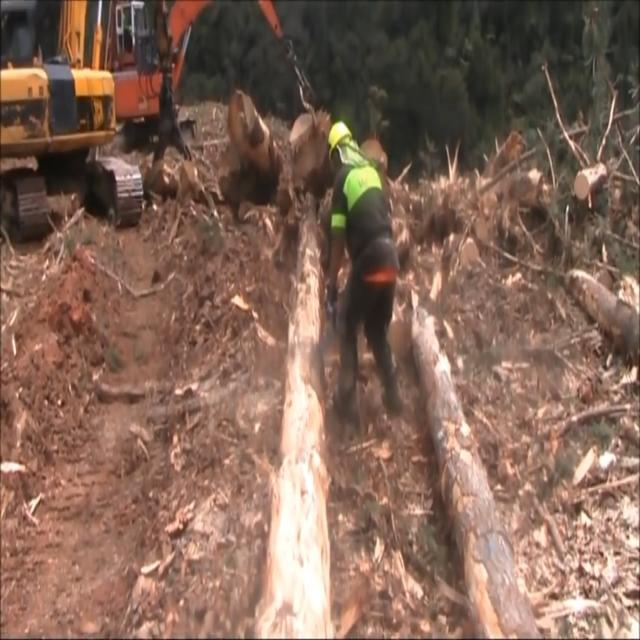Chainsaw: (294, 276, 358, 394)
